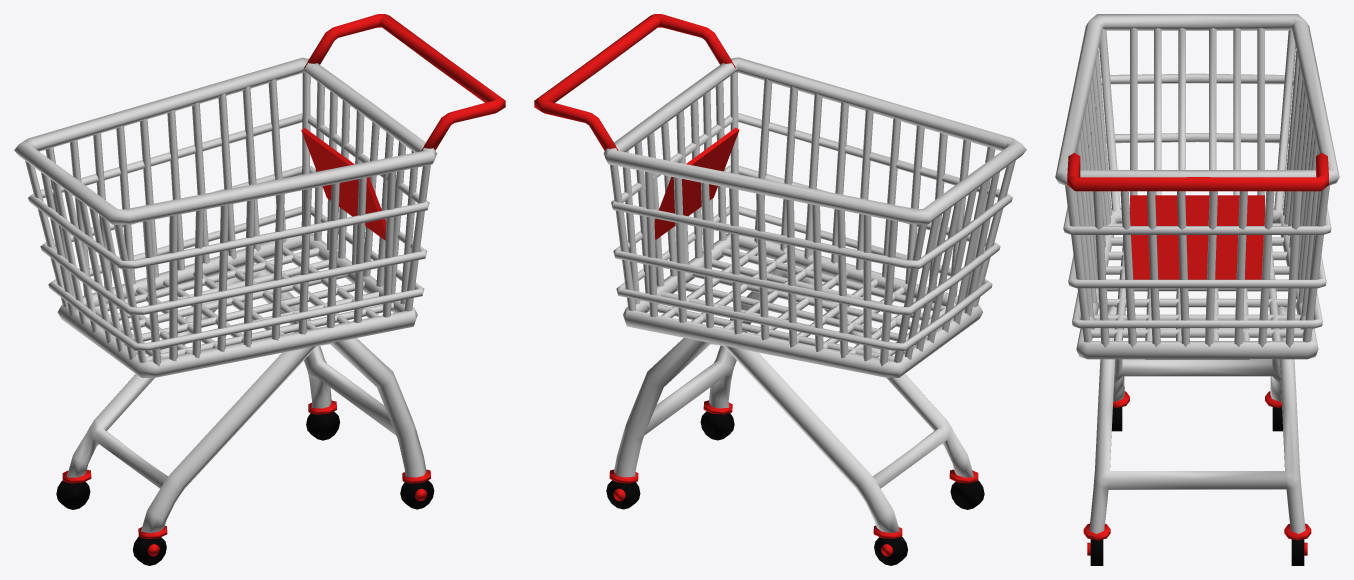
Rendered from MartCart.FBX.
3 renders of one model, left to right at view 1: azimuth 30°, elevation 25°; view 2: azimuth 150°, elevation 25°; view 3: azimuth 270°, elevation 25°, orthographic. The views are drawn at different scales.
Visible parts, largest first — view 1: Cylinder001; view 2: Cylinder001; view 3: Cylinder001.
Boxes of the visible parts, bbox=[...] form: Cylinder001: bbox=[14, 14, 505, 565]; Cylinder001: bbox=[534, 14, 1026, 565]; Cylinder001: bbox=[1055, 14, 1339, 565].
Bounding box in the file's own units: 27.09 × 26.73 × 16.21.
